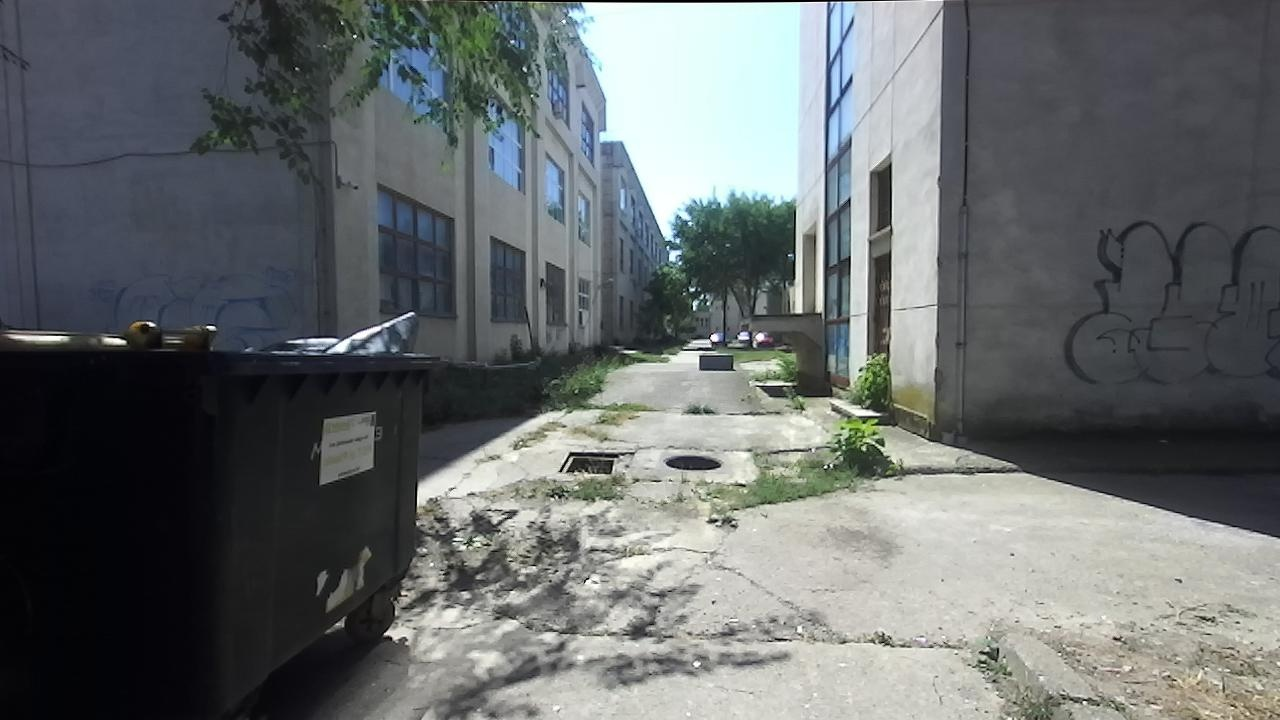drain: (555, 446, 623, 477), (658, 448, 723, 476)
